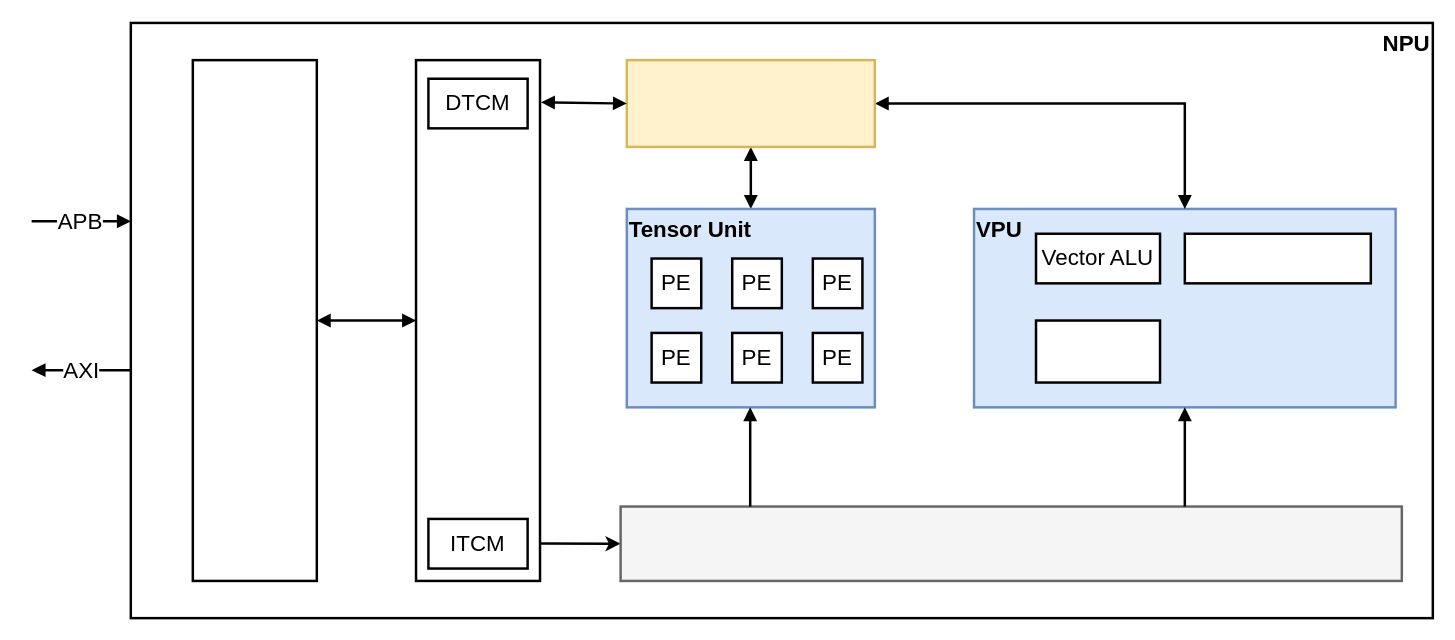
Image size: 1455x640. Some labels were removed from this diagram. Each missing label, with the box of its shape:
Controller: (619, 505, 1402, 582)
DMA: (191, 58, 317, 582)
On-Chip Memory: (414, 58, 541, 582)
SFU: (1183, 232, 1371, 284)
Vector LSU: (625, 58, 875, 148)
Vector RegFile: (1034, 319, 1161, 383)
